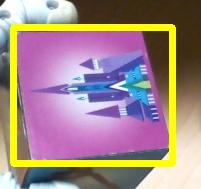Castle4: (13, 27, 172, 163)
